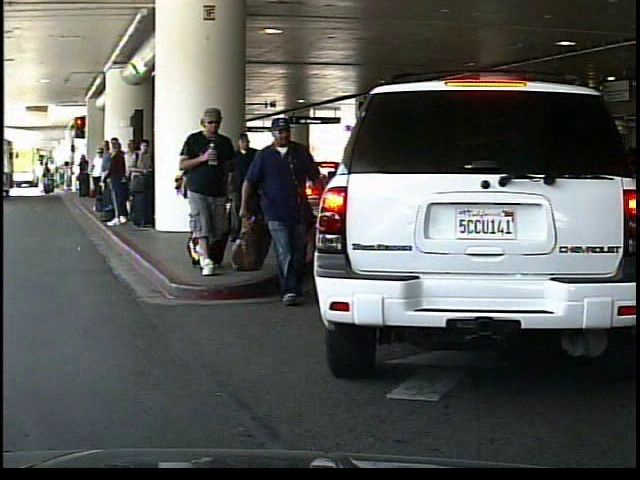person: (242, 102, 318, 301), (178, 105, 240, 276), (230, 136, 270, 243)
